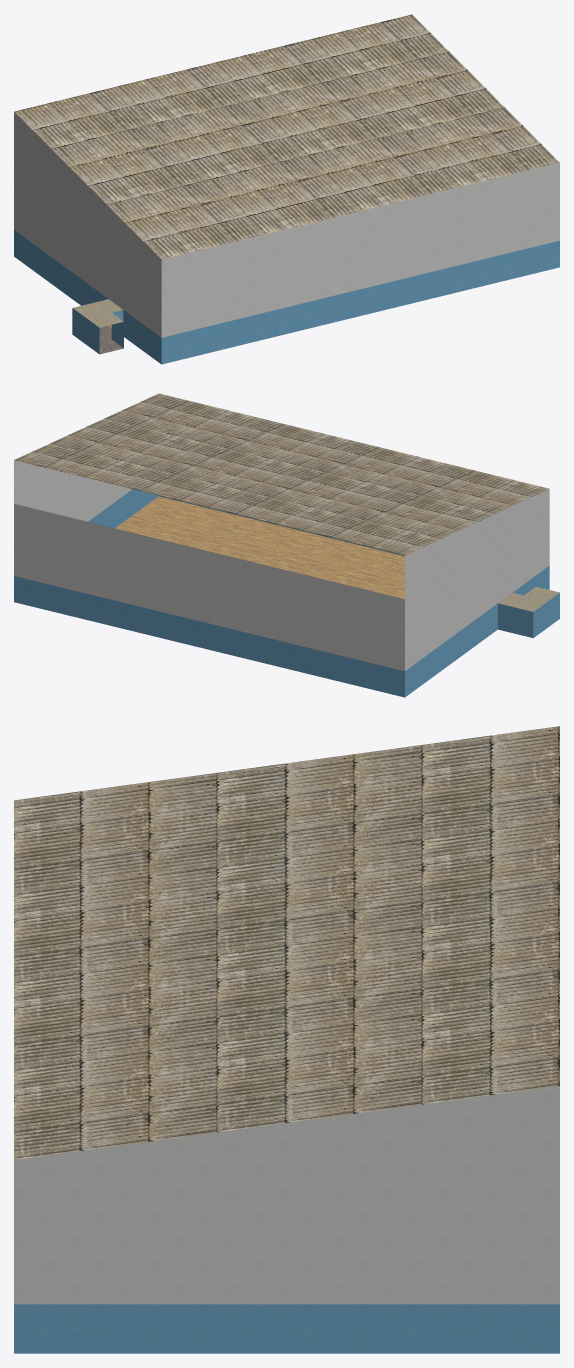
Rendered from gym.fbx.
The picture shows the model from 3 angles, top to bottom: view 1: azimuth 30°, elevation 25°; view 2: azimuth 150°, elevation 25°; view 3: azimuth 270°, elevation 25°; orthographic projection. The views are drawn at different scales.
Parts seen in each view (by area): view 1: Plane; view 2: Plane; view 3: Plane.
Boxes of the visible parts, x1=… form: Plane: x1=14, y1=14, x2=559, y2=364; Plane: x1=14, y1=393, x2=559, y2=697; Plane: x1=14, y1=726, x2=559, y2=1353.
Bounding box in the file's own units: 40.8 × 13 × 24.
